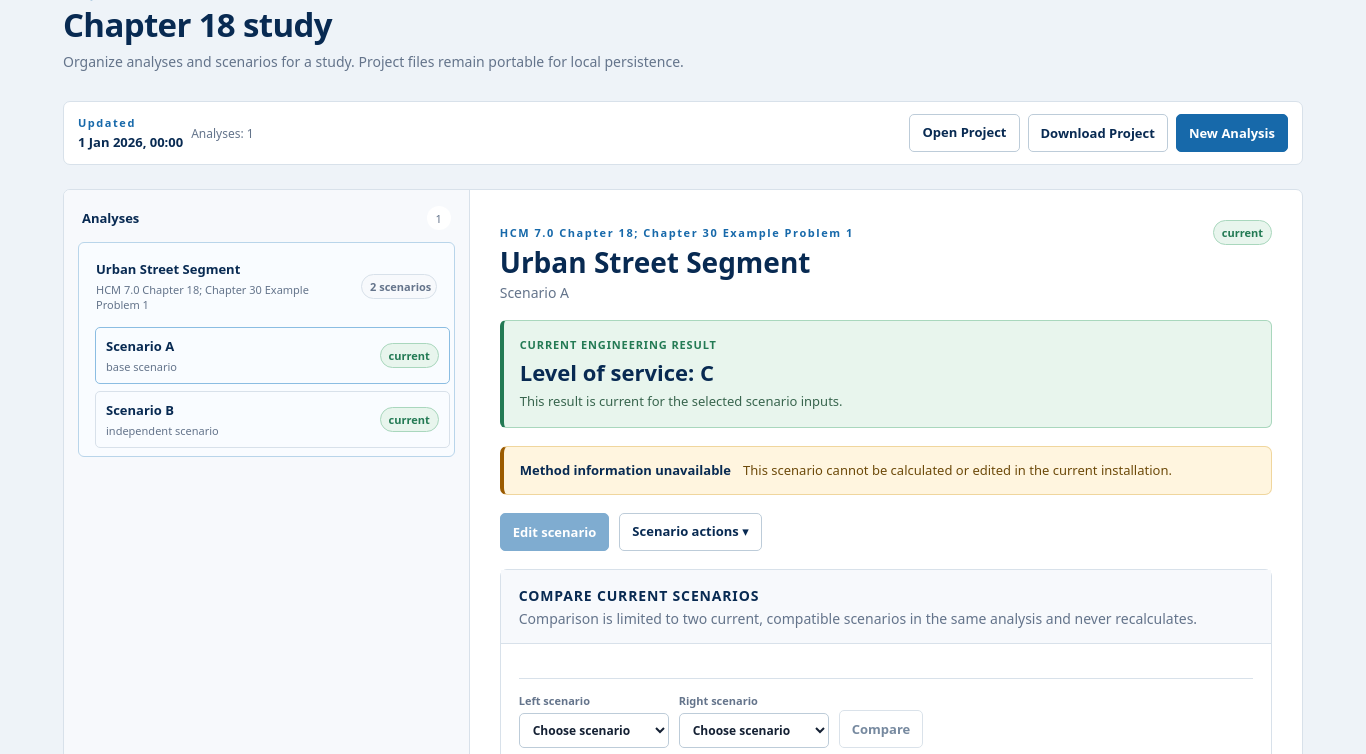
Test: ProjectWorkspace Chapter 18 comparison vocabulary › renders canonical Chapter 18 metric labels and units returned by the generic comparison API
The width and height of the screenshot is (1366, 754).
Select "Scenario A" in the dropdown labelled "Left scenario". click: (594, 730)
box: x1=519 y1=713 x2=669 y2=748
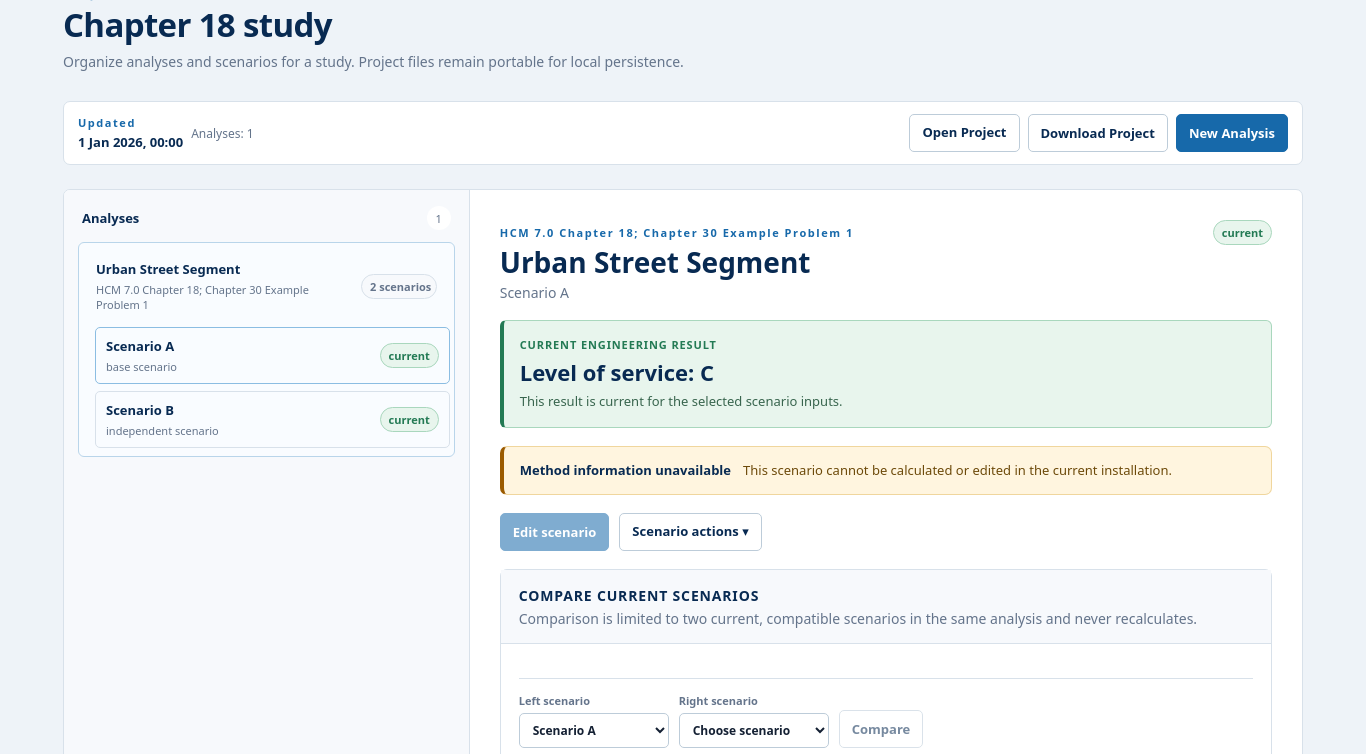
Select "Scenario B" in the dropdown labelled "Right scenario". click: (754, 730)
box: x1=679 y1=713 x2=829 y2=748
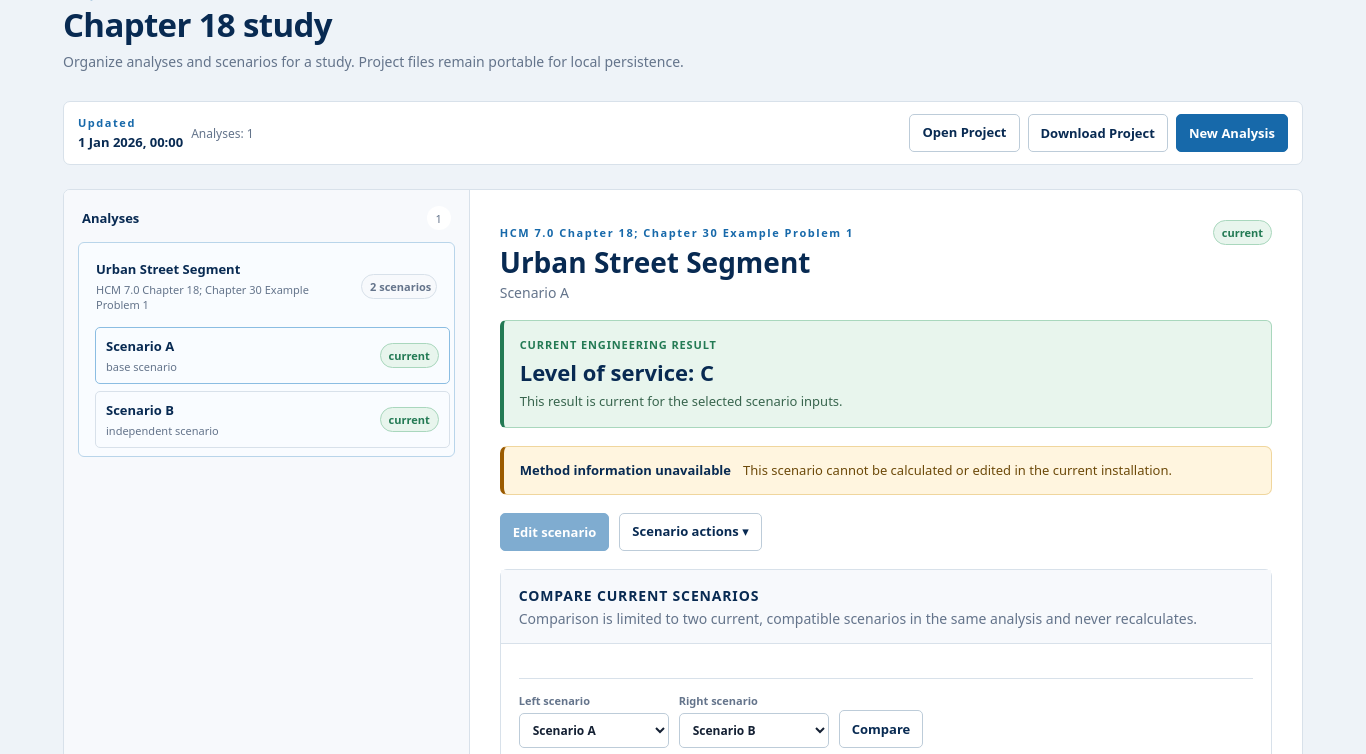
Click the button "Compare". click: click(881, 729)
box: x1=839 y1=710 x2=923 y2=748
(page scrolled)
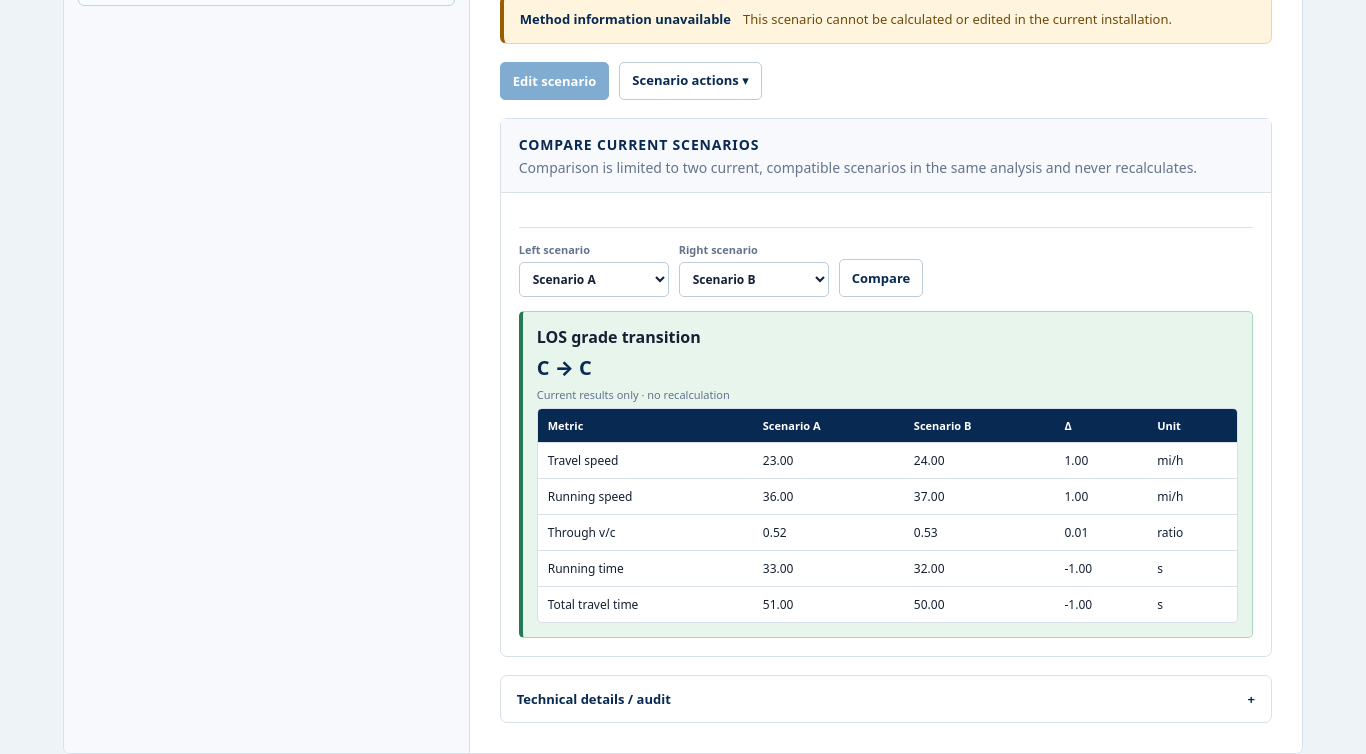
expect the element with test id "comparison-result" shows "C → C": met, box x1=519 y1=311 x2=1253 y2=638
expect the element with test id "comparison-result" shows "Travel speed": met, box x1=548 y1=452 x2=618 y2=469
expect the element with test id "comparison-result" shows "Running speed": met, box x1=548 y1=488 x2=632 y2=505
